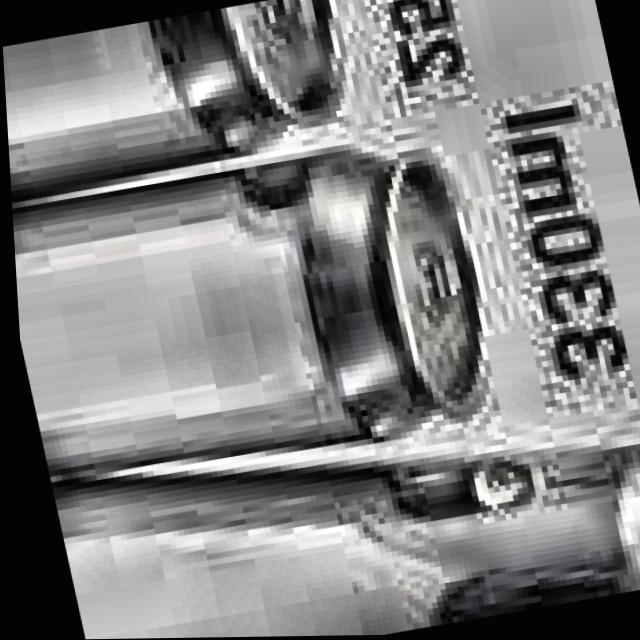metal: (6, 119, 528, 528), (36, 359, 640, 640), (0, 0, 381, 224)
